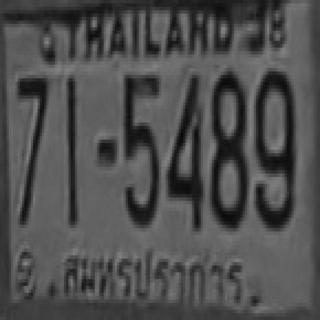N01: (65, 75, 76, 221)
N04: (166, 72, 201, 228)
N05: (122, 71, 159, 225)
N07: (16, 76, 46, 223), (16, 75, 46, 177)
N08: (210, 68, 245, 225)
N09: (254, 68, 294, 225)
P57: (58, 238, 249, 314)
